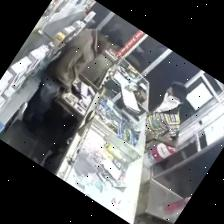person: (23, 28, 121, 132), (145, 82, 187, 147)
